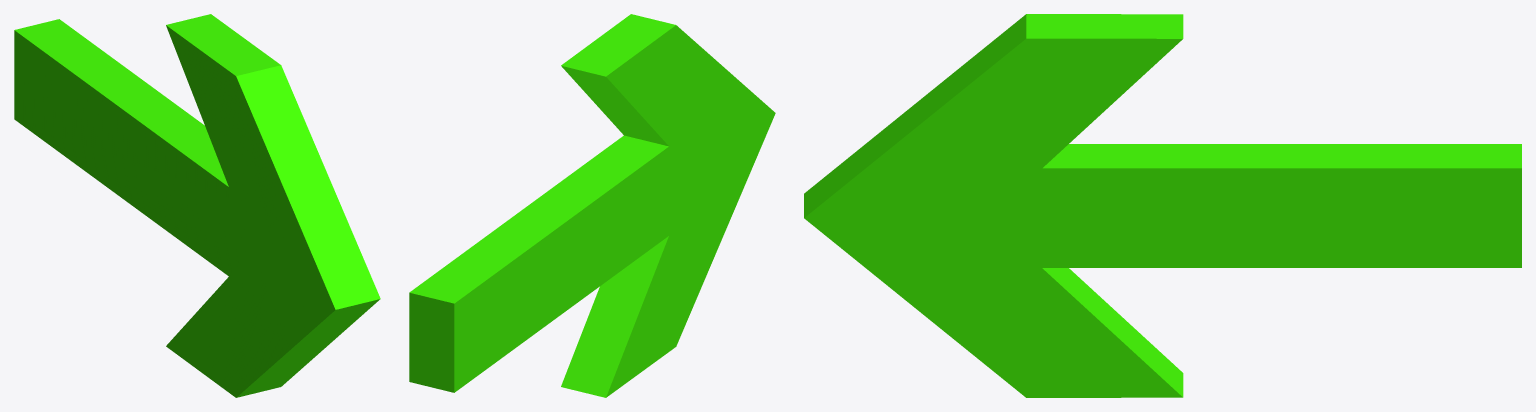
File: стрелочка(1).fbx
3 views of the same model, side by side, from view 1: azimuth 30°, elevation 25°; view 2: azimuth 150°, elevation 25°; view 3: azimuth 270°, elevation 25° (orthographic). The views are drawn at different scales.
Parts seen in each view (by area): view 1: Plane.001; view 2: Plane.001; view 3: Plane.001.
Part boxes in pixels (left/top/right/bottom): Plane.001: left=14, top=14, right=380, bottom=397; Plane.001: left=409, top=14, right=775, bottom=397; Plane.001: left=804, top=14, right=1521, bottom=397.
Size of the model in its own units: 33.63 by 229 by 415.
